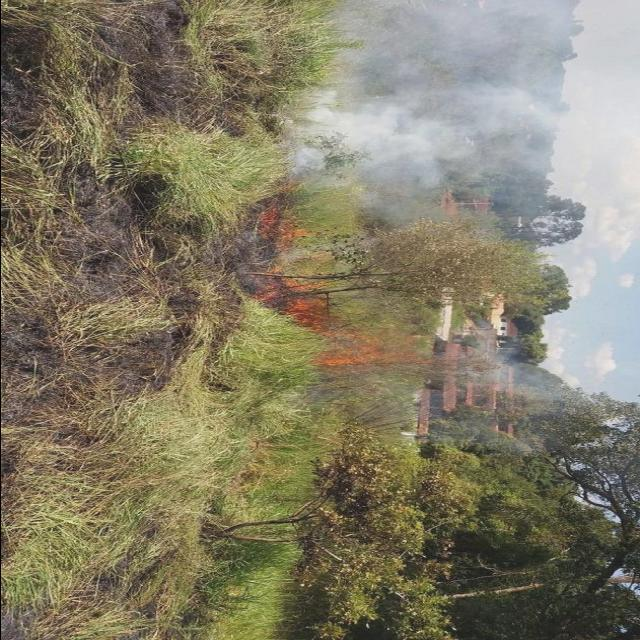Fire: (287, 296, 429, 368)
